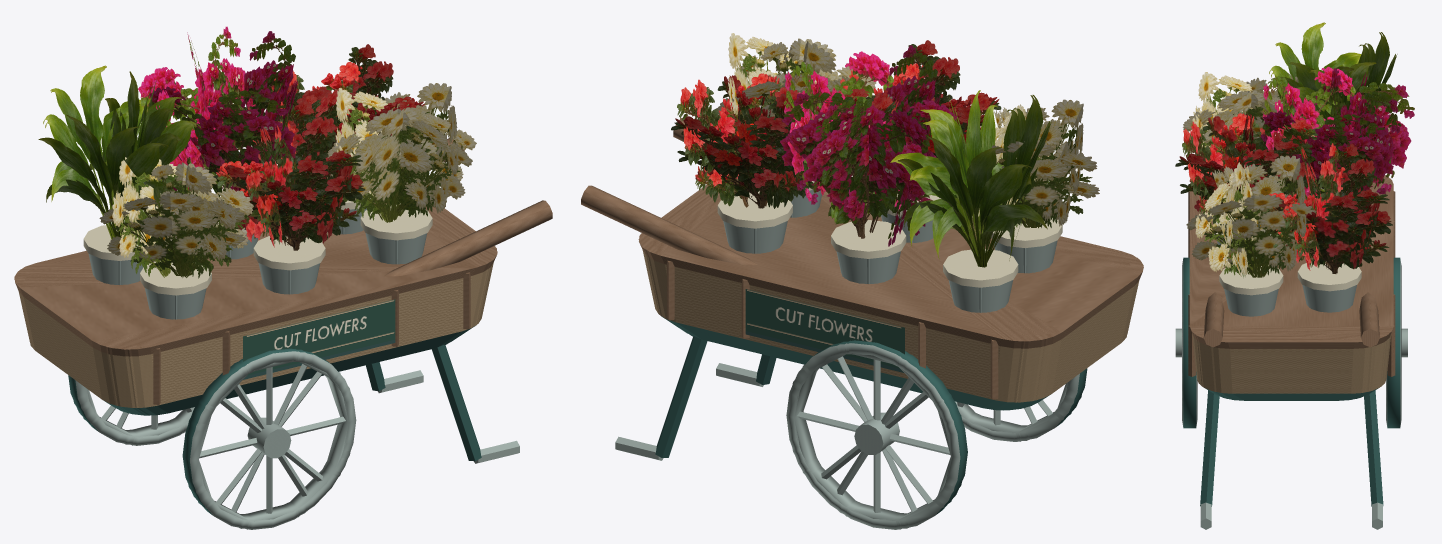
Rendered from FlowerBarrow.fbx.
3 views of the same model, side by side, from view 1: azimuth 30°, elevation 25°; view 2: azimuth 150°, elevation 25°; view 3: azimuth 270°, elevation 25° (orthographic). The views are drawn at different scales.
Visible parts, largest first — view 1: FlowerBarrow Close, FlowerBarrow Horizon, FlowerBarrow Street; view 2: FlowerBarrow Close, FlowerBarrow Horizon, FlowerBarrow Street; view 3: FlowerBarrow Close, FlowerBarrow Horizon, FlowerBarrow Street.
Part boxes in pixels (left/top/right/bottom): FlowerBarrow Close: left=14, top=26, right=552, bottom=529; FlowerBarrow Horizon: left=20, top=32, right=476, bottom=529; FlowerBarrow Street: left=14, top=207, right=497, bottom=528; FlowerBarrow Close: left=581, top=33, right=1143, bottom=529; FlowerBarrow Horizon: left=648, top=38, right=1135, bottom=529; FlowerBarrow Street: left=638, top=196, right=1143, bottom=528; FlowerBarrow Close: left=1175, top=22, right=1407, bottom=529; FlowerBarrow Horizon: left=1182, top=62, right=1414, bottom=418; FlowerBarrow Street: left=1175, top=176, right=1407, bottom=428.
Bounding box in the file's own units: 194 × 168 × 108.
